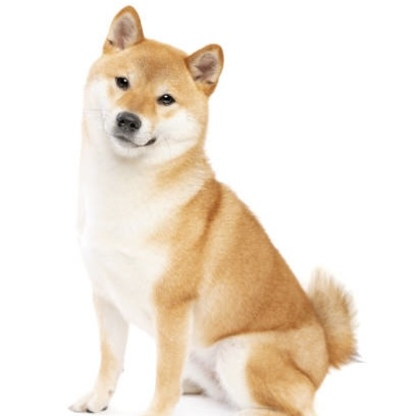shiba: (64, 3, 368, 416)
